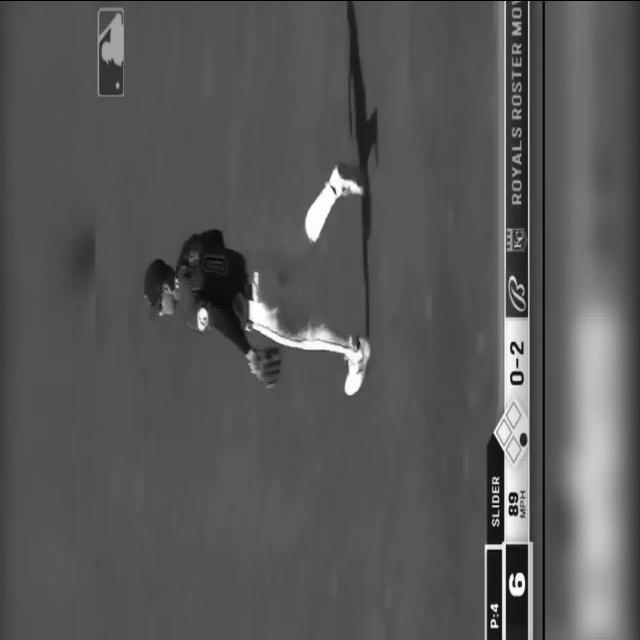baseball_glove: (246, 346, 281, 388)
shoe: (344, 336, 371, 396), (328, 162, 364, 198)
